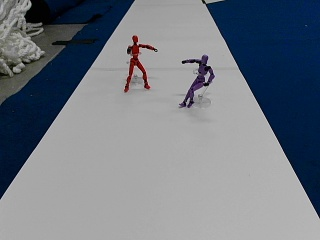pedestrian: (124, 34, 158, 92), (180, 53, 214, 107)
